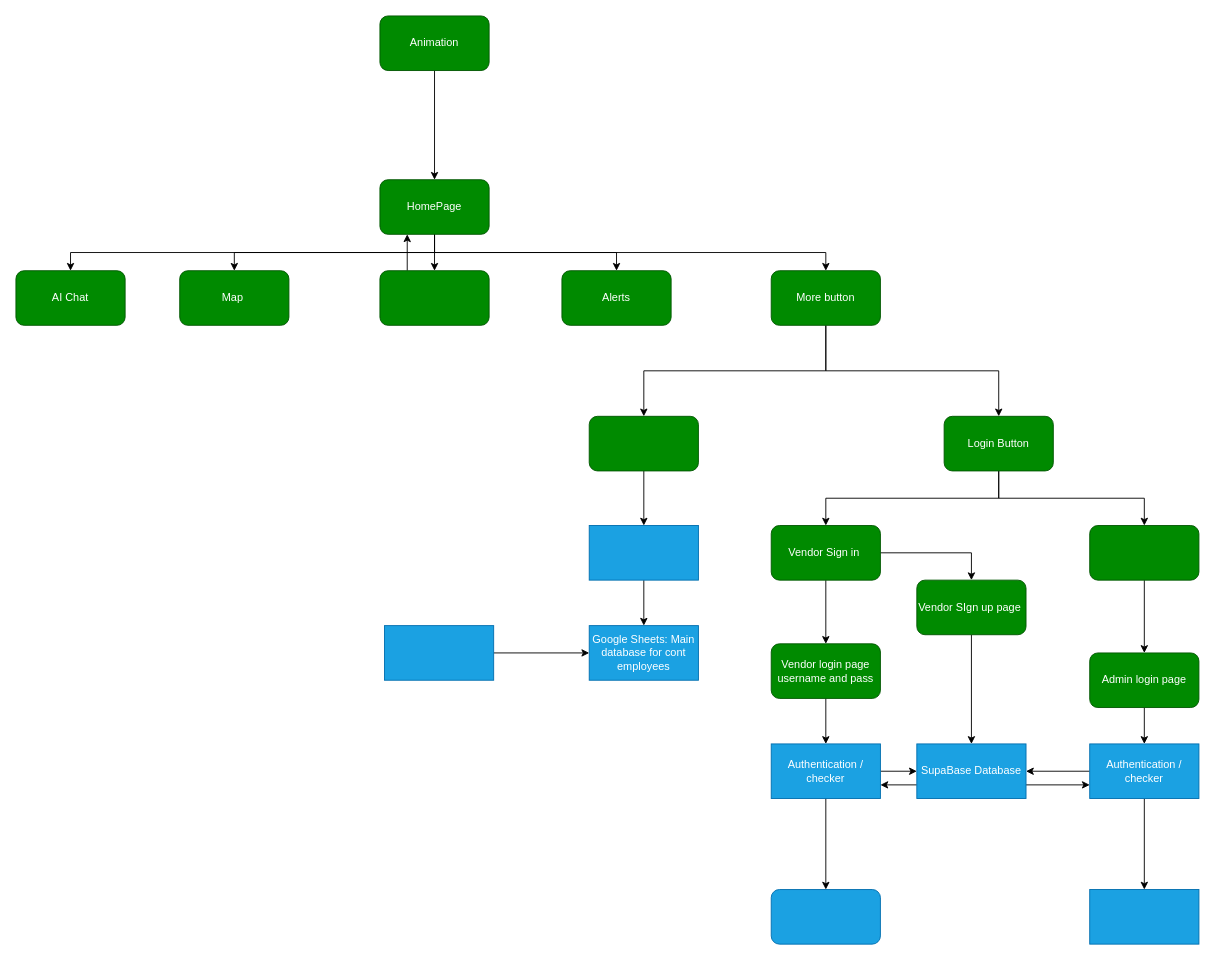
This 1215x960 diagram has some shape labels left out. The centre of each missing label's shape, as x and y in pixels:
"Admin SIgn in" belongs at point (1144, 552).
"DATA BASE (MONGO)" belongs at point (439, 652).
"Home" belongs at point (434, 297).
"Messaging...." belongs at point (825, 916).
"Register Resource(button)" belongs at point (643, 443).
"Sync Button" belongs at point (1144, 916).
"Type Form" belongs at point (643, 552).
